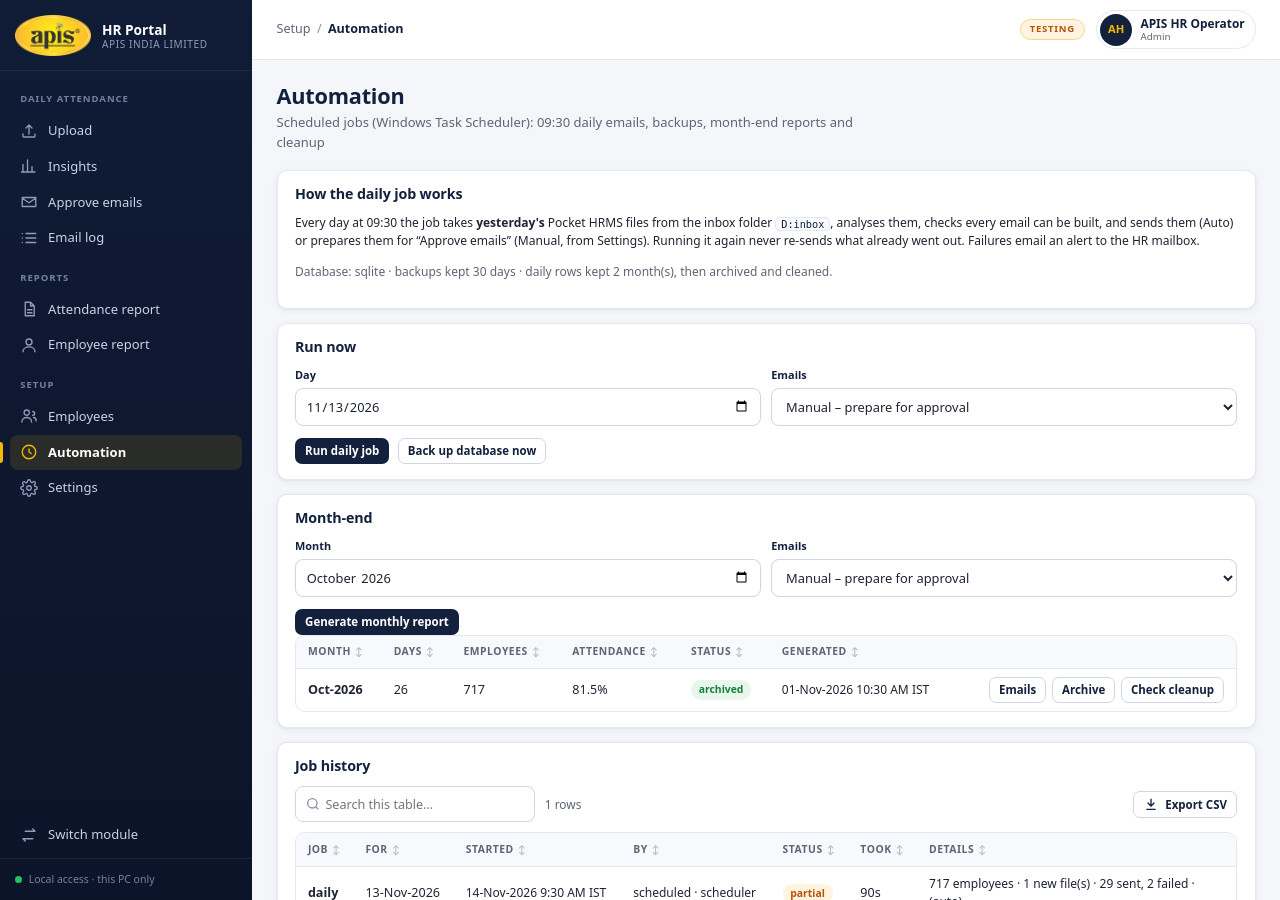
it: automation: job history, run the daily job, month-end list
Check: the text "Oct-2026" is shown, box [308,680,363,698]
Click the button "Run daily job". click: (342, 451)
box: [295,438,389,464]
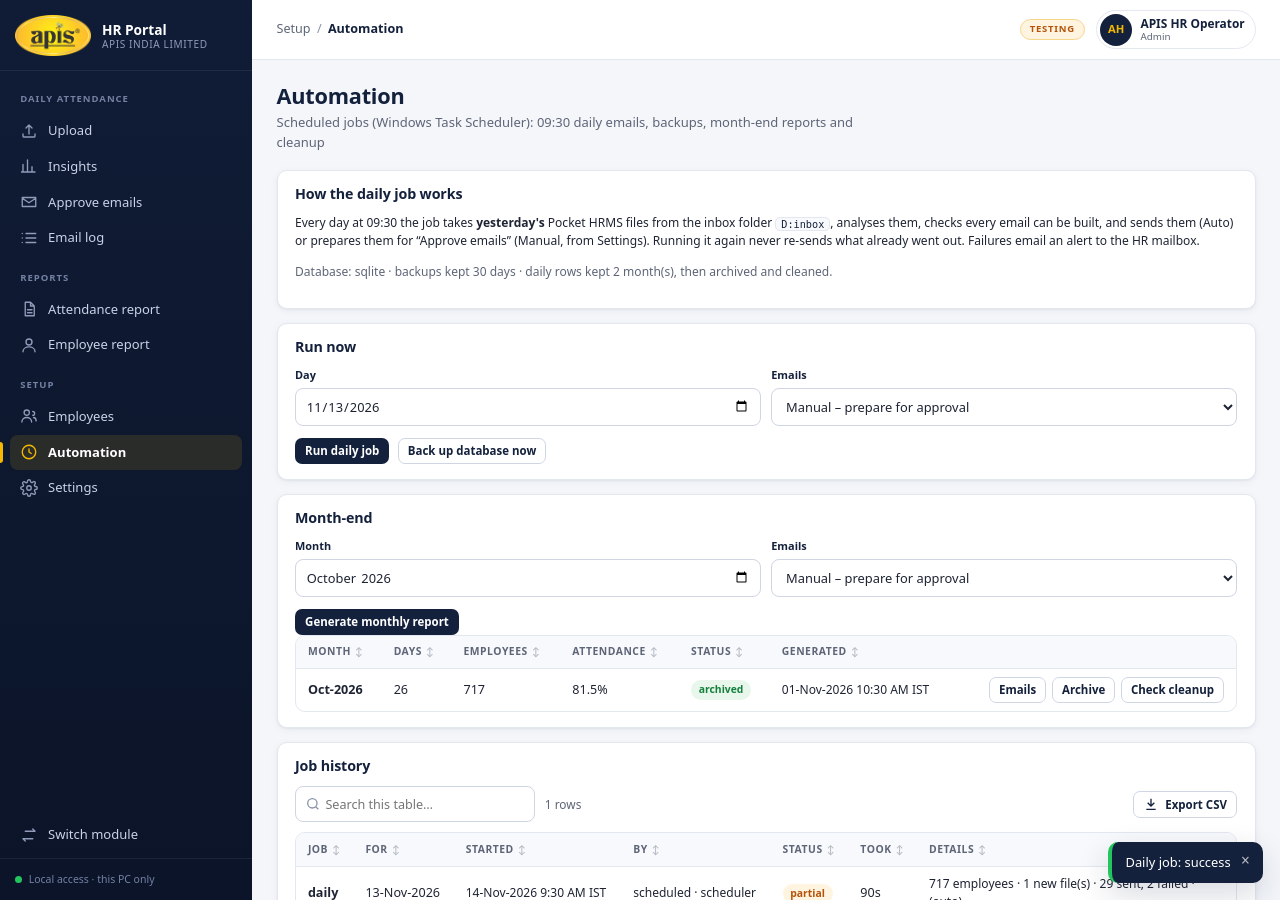
Check: the text "Daily job: success" is shown, box [1126,853,1231,872]
